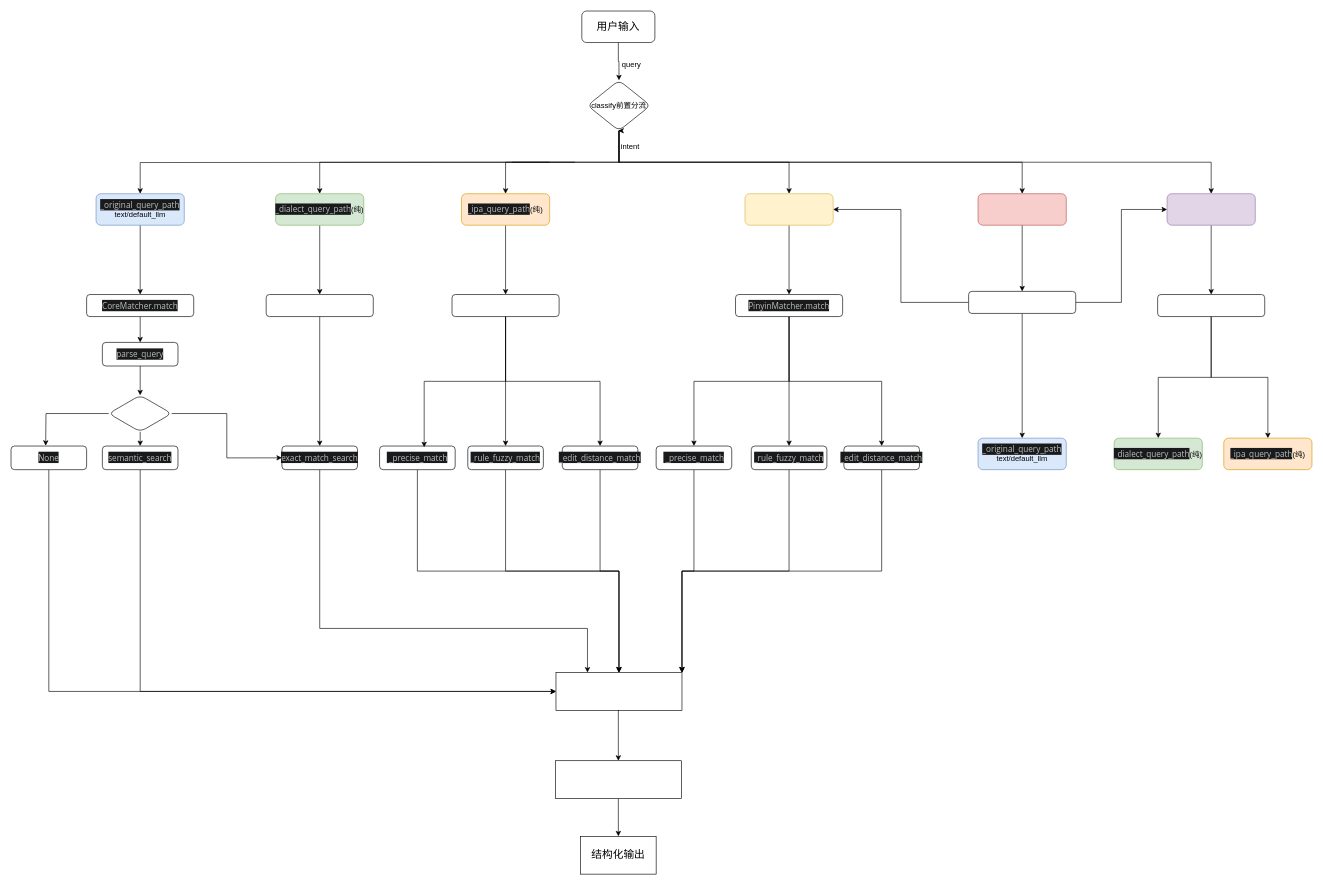
Some shapes in this 1323 by 885 pixel diagram are drawn without their labels. The shapes that lost their labels are listed below. From the top down, each one's centre as x and y in pixels, then its label:
point (788, 209): _pinyin_query_path (纯)
point (1021, 209): _pinyin_llm_query_path
point (1210, 209): _mixed_query_path 纯(字+拼音)
point (319, 305): DialectWordMatcher.match
point (505, 305): IPAMatcher.match
point (1022, 302): 核心字段分类
point (1211, 305): core_query
point (140, 413): core_search
point (618, 691): 各自的合并与去重
point (618, 779): _adapt + format_result
